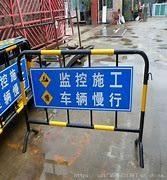sign: (20, 54, 146, 133)
